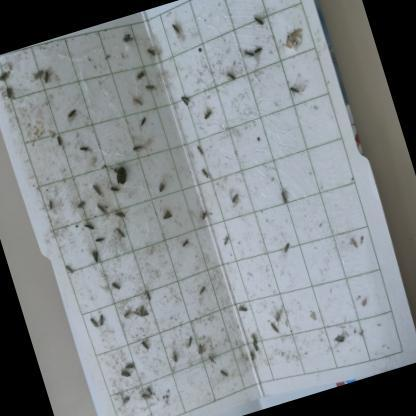prays_oleae: (276, 22, 308, 57), (40, 189, 66, 230), (137, 278, 159, 312), (124, 136, 150, 164), (0, 81, 24, 111), (283, 77, 306, 107), (270, 180, 293, 210), (162, 341, 184, 372), (245, 330, 266, 362), (247, 4, 268, 34), (139, 34, 160, 64), (92, 305, 111, 338), (130, 300, 152, 328), (221, 61, 240, 92), (156, 203, 178, 229), (195, 278, 214, 308), (151, 174, 171, 202), (86, 174, 106, 200), (240, 44, 260, 70), (234, 298, 255, 322), (342, 229, 362, 254), (71, 140, 97, 159), (134, 108, 153, 134), (280, 235, 298, 262), (93, 197, 111, 224), (196, 202, 216, 226), (180, 328, 197, 356), (168, 18, 186, 44), (128, 89, 146, 115), (330, 328, 352, 349), (117, 27, 137, 50), (90, 228, 112, 248), (192, 139, 212, 160), (266, 320, 288, 339), (38, 66, 54, 92), (228, 187, 246, 210), (142, 80, 160, 103), (118, 366, 138, 386), (177, 235, 196, 256), (62, 262, 81, 283), (119, 306, 135, 330), (79, 216, 98, 236), (191, 336, 208, 358), (115, 389, 134, 408), (198, 100, 214, 122), (62, 102, 80, 121), (114, 224, 130, 244), (88, 310, 100, 336), (130, 68, 148, 85), (119, 354, 136, 372), (73, 195, 89, 214), (216, 362, 235, 378), (140, 384, 155, 404), (178, 89, 192, 110), (0, 64, 14, 84), (218, 229, 231, 250), (108, 177, 122, 196), (200, 164, 212, 186), (139, 332, 151, 354), (89, 248, 104, 265), (252, 42, 266, 60), (206, 354, 219, 372), (30, 67, 42, 86), (106, 280, 122, 293), (113, 209, 127, 222)
